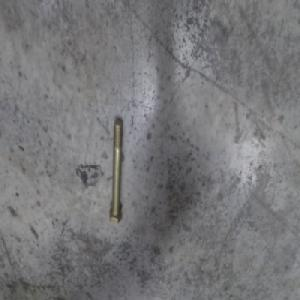Bolt: (107, 118, 125, 226)
